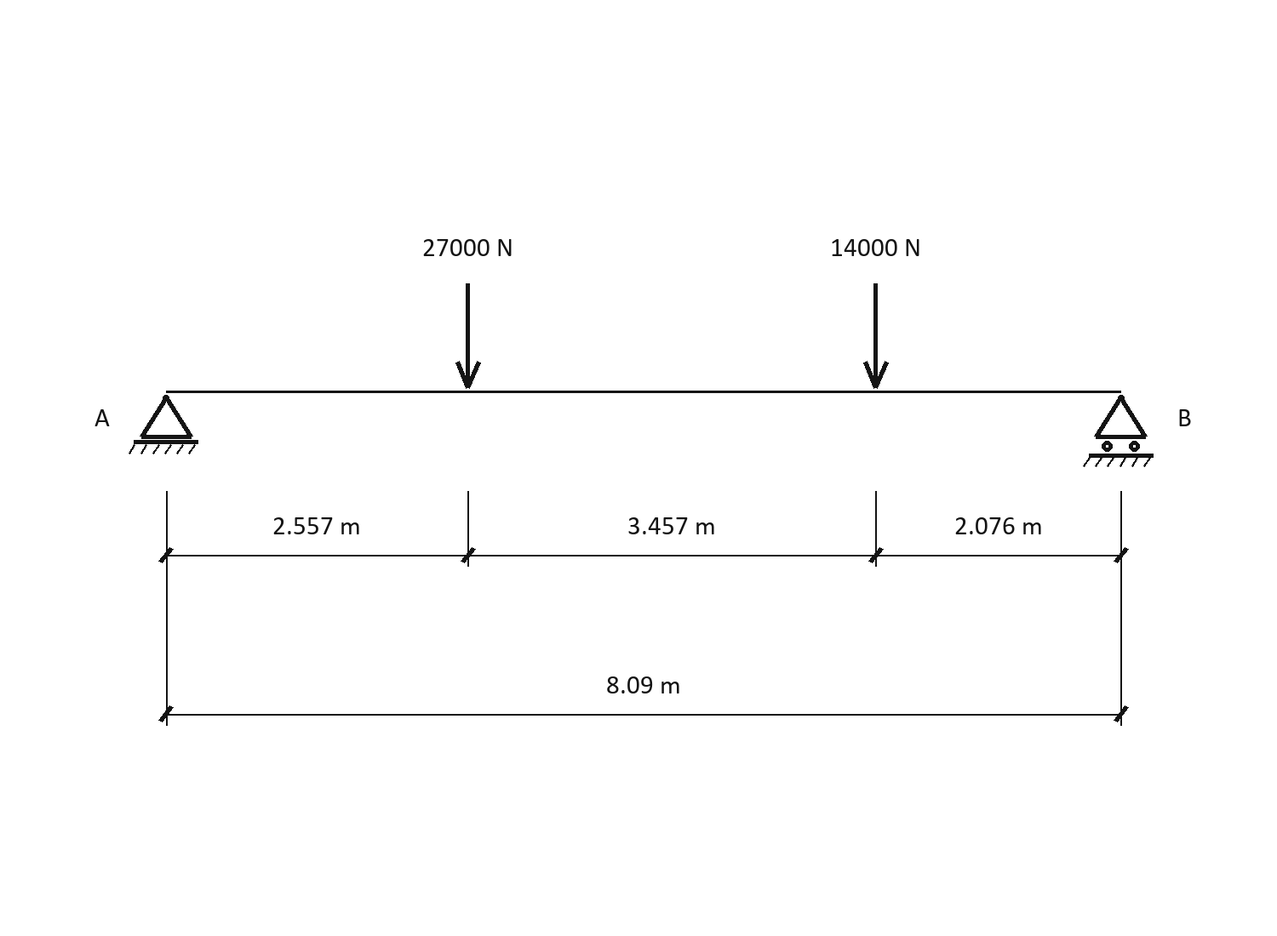pin_support: (129, 395, 198, 454)
point_load: (455, 283, 481, 389), (863, 283, 889, 389)
roller_support: (1083, 395, 1154, 467)
